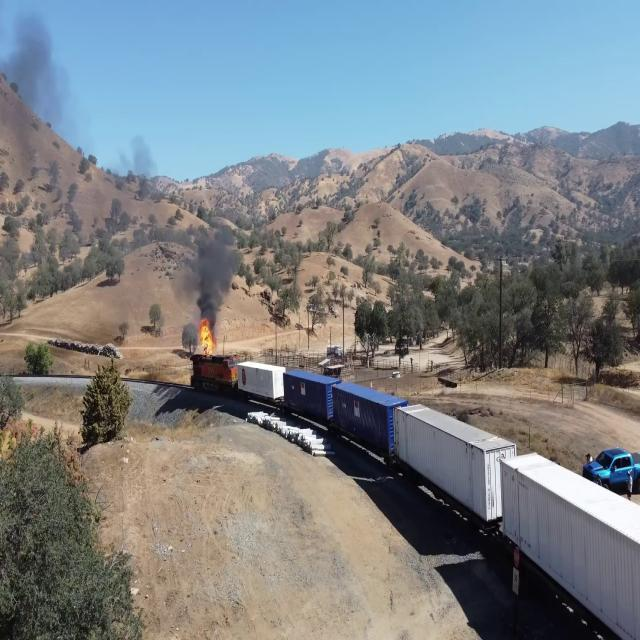Fire: (200, 322, 217, 357)
Smoke: (196, 236, 235, 309)
